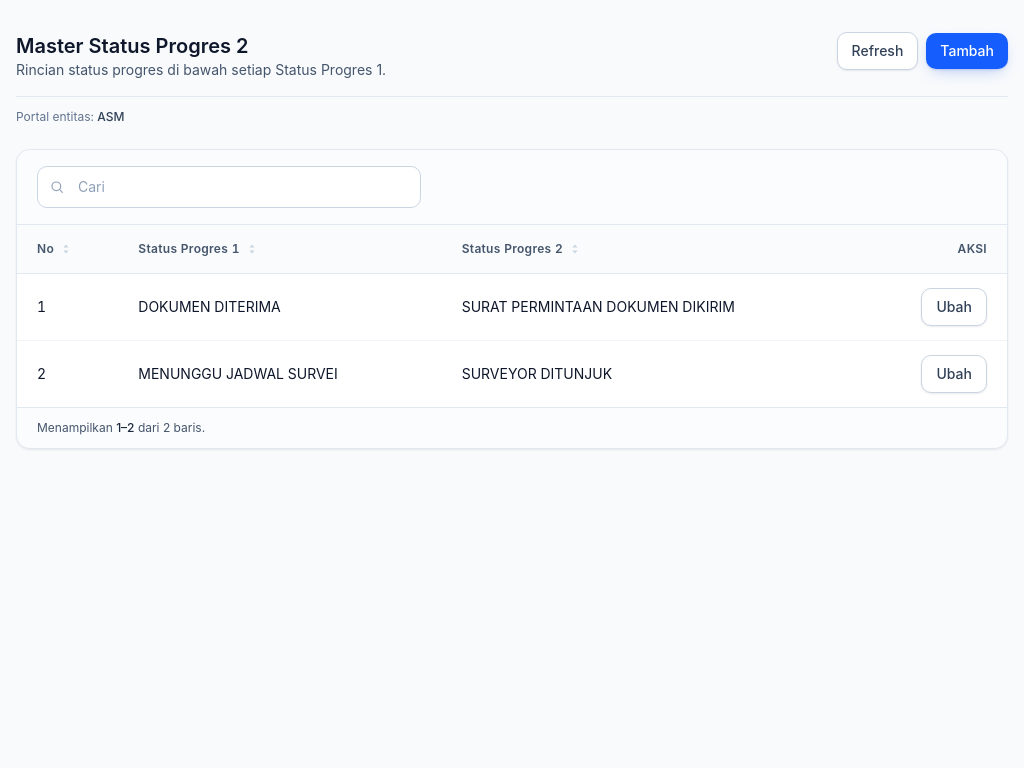
Scenario: penambahan status progres 2 › menolak isian kosong sebelum menembak server
Expected: the table is shown, [17,225,1007,407]
What coordinates should you click on to do the following:
click the button "Tambah"
I would click on:
 (967, 51)
Its box is [926,33,1008,69].
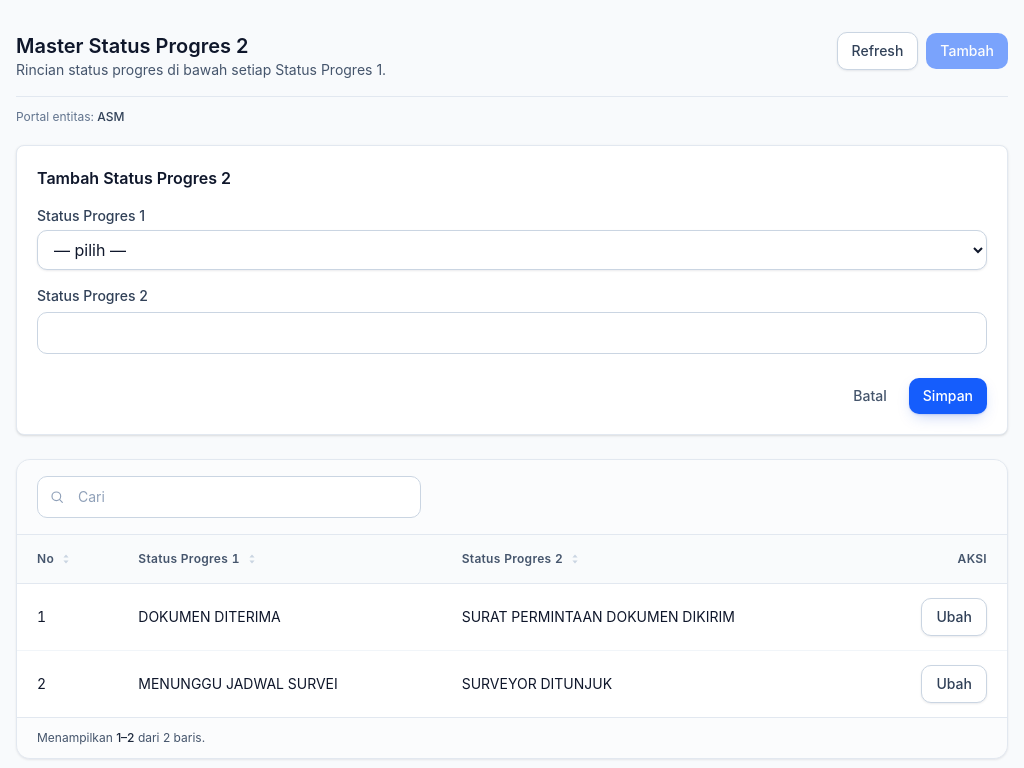
What coordinates should you click on to do the following:
click the button "Simpan"
I would click on:
 (948, 396)
Its box is [909,378,987,414].
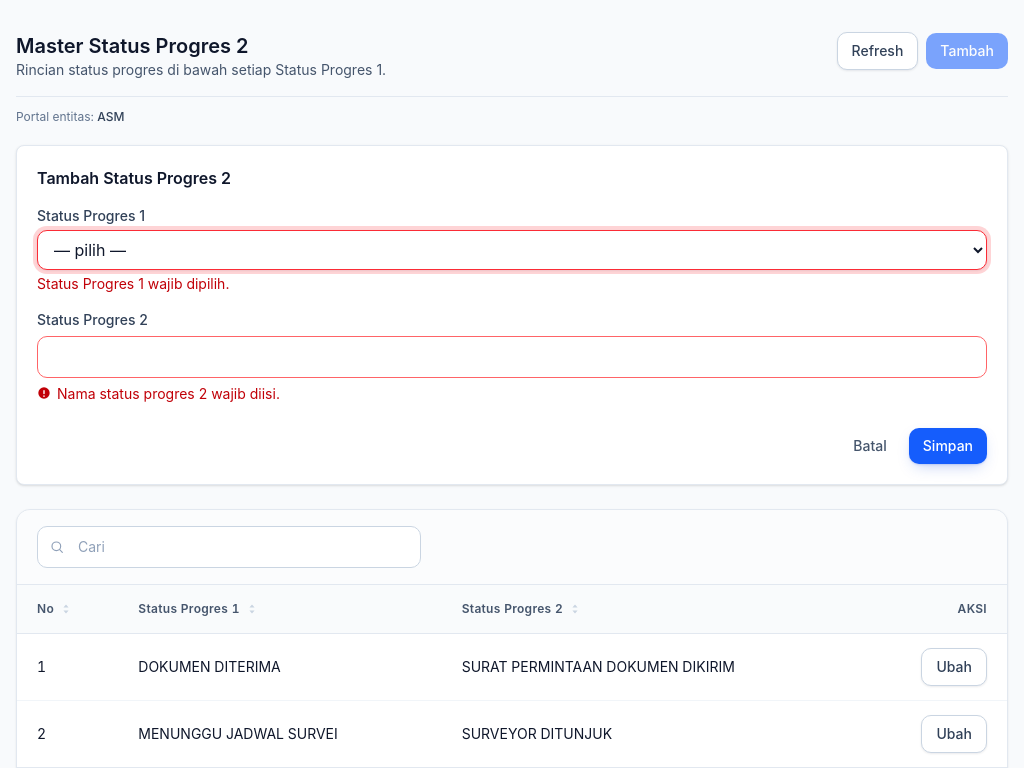
Expected: the text "Nama status progres 2 wajib diisi." is shown, [57,384,280,404]
Expected: the text "Status Progres 1 wajib dipilih." is shown, [37,275,229,292]
